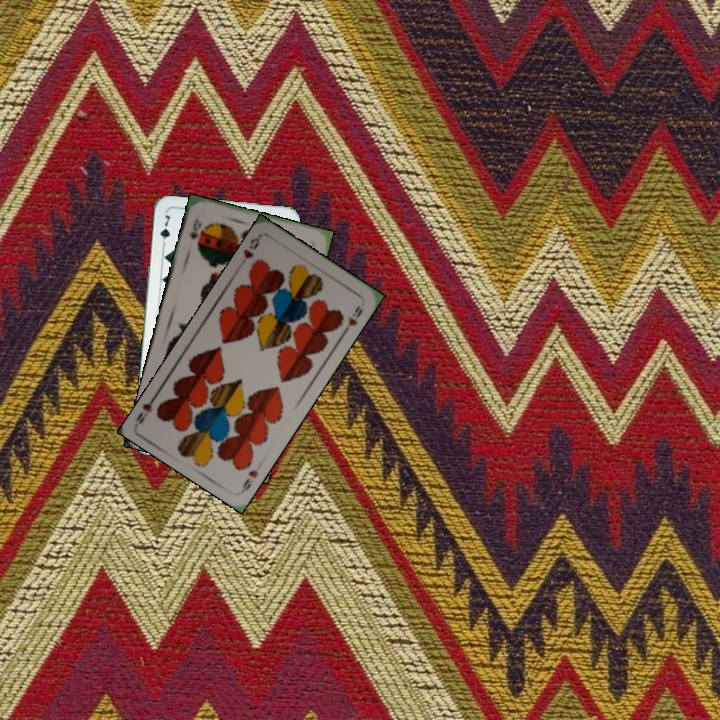G7: (156, 210, 173, 251)
H9: (239, 232, 263, 262), (238, 465, 261, 495)
SO: (186, 214, 204, 248)
